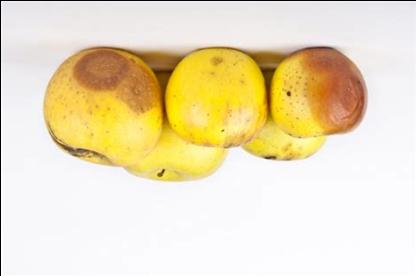defect: (294, 37, 376, 141), (64, 38, 162, 124), (42, 118, 86, 168), (253, 140, 305, 176)
